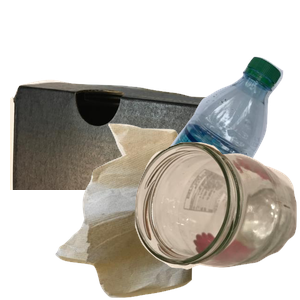cardboard: (10, 77, 245, 257)
glass: (132, 139, 300, 300)
plastic: (142, 54, 300, 234)
trash: (53, 121, 239, 300)
